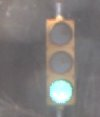Green: (36, 17, 89, 108)
